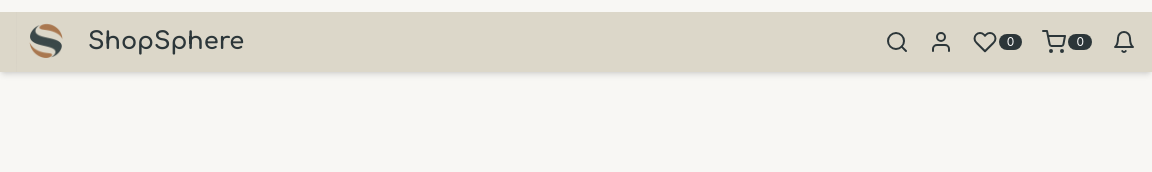
Test: Header › opens the search bar
Click the button named "open search".
click(897, 42)  # box [885,30,909,54]
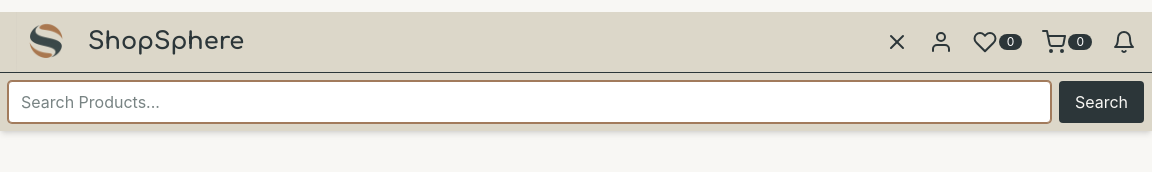
Expected: the field with placeholder "Search Products..." is shown, [8,81,1051,123]
